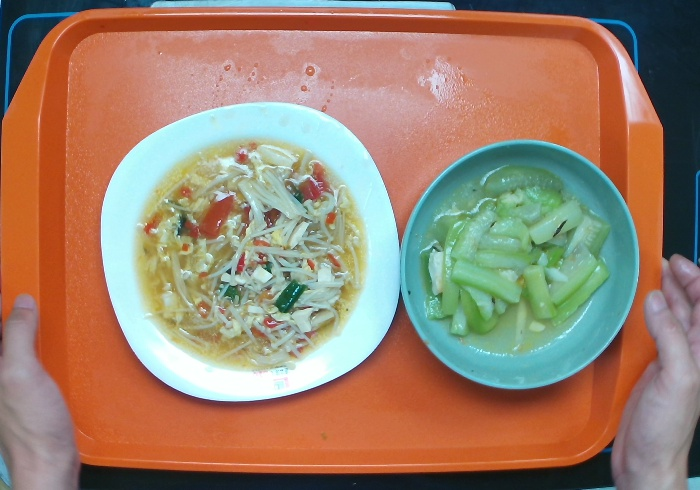ZNLD-Qing_Hua_Yuan_Wan: (395, 132, 646, 397)
ZNLD-Yuan_Jiao_Pan: (94, 90, 408, 415)
